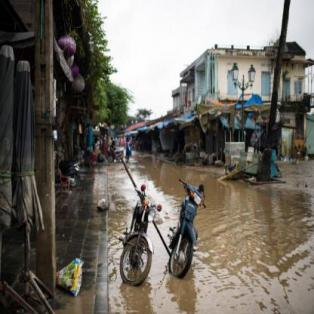Motocicleta: (168, 170, 207, 294), (121, 180, 161, 290)
